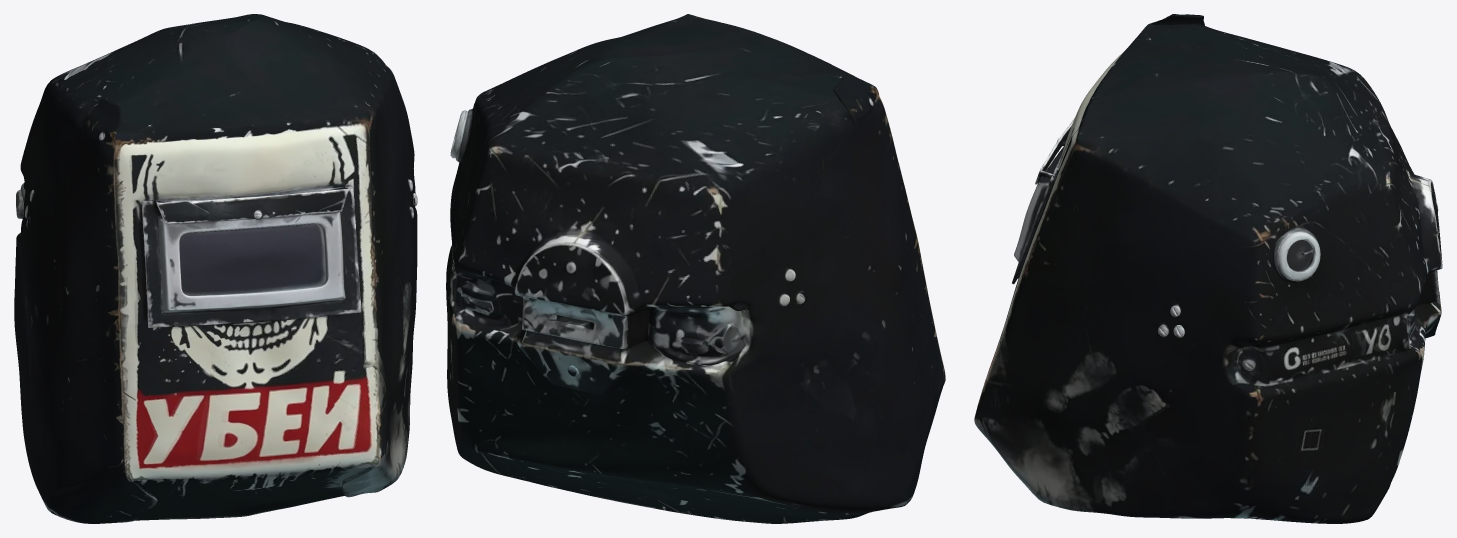
The model's file is helmet-tagilla.glb.
3 renders of one model, left to right at view 1: azimuth 30°, elevation 25°; view 2: azimuth 150°, elevation 25°; view 3: azimuth 270°, elevation 25°, orthographic. The views are drawn at different scales.
Parts seen in each view (by area): view 1: tripo_node_8b6c4ec6-3ea7-4288-bba5-b3949a2f1d6e; view 2: tripo_node_8b6c4ec6-3ea7-4288-bba5-b3949a2f1d6e; view 3: tripo_node_8b6c4ec6-3ea7-4288-bba5-b3949a2f1d6e.
Part boxes in pixels (x1=…): tripo_node_8b6c4ec6-3ea7-4288-bba5-b3949a2f1d6e: x1=14, y1=14, x2=417, y2=523; tripo_node_8b6c4ec6-3ea7-4288-bba5-b3949a2f1d6e: x1=446, y1=14, x2=945, y2=523; tripo_node_8b6c4ec6-3ea7-4288-bba5-b3949a2f1d6e: x1=974, y1=14, x2=1442, y2=523.
Size of the model in its own units: 0.9797 by 0.98 by 0.9776.
Materials: 1 (1 with a texture image).
